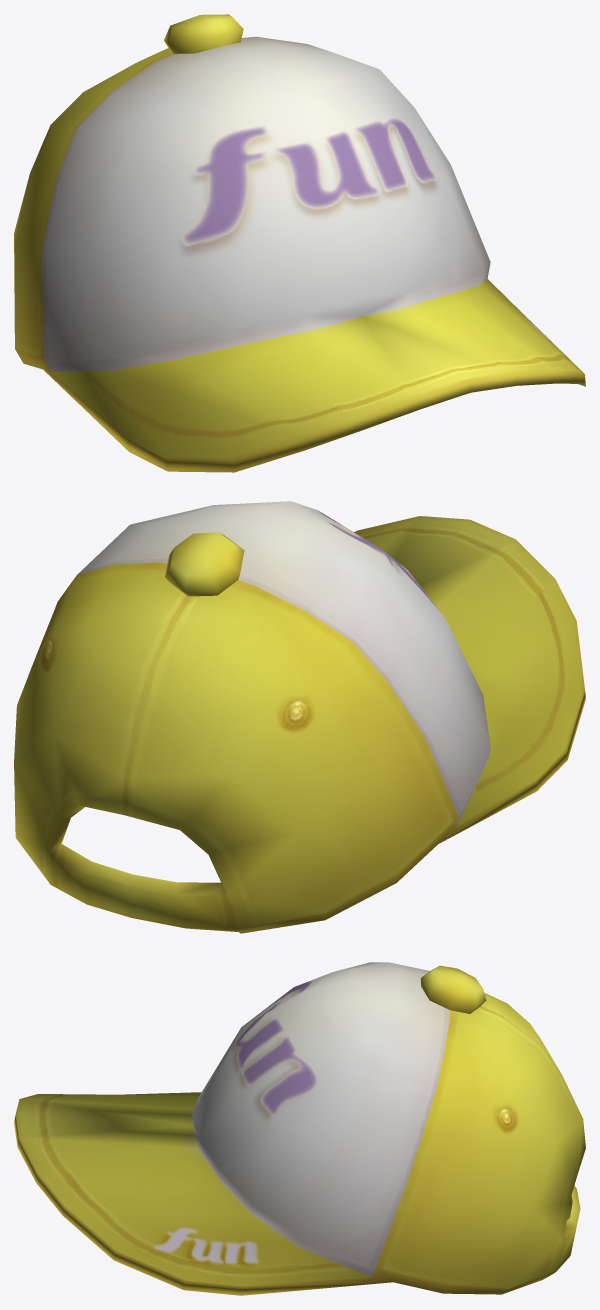
File: Z004_0100_Skin.FBX
The picture shows the model from 3 angles, top to bottom: view 1: azimuth 30°, elevation 25°; view 2: azimuth 150°, elevation 25°; view 3: azimuth 270°, elevation 25°; orthographic projection. The views are drawn at different scales.
Parts seen in each view (by area): view 1: Z004_0100; view 2: Z004_0100; view 3: Z004_0100.
Boxes of the visible parts, left/top/right/bottom form: Z004_0100: left=14, top=14, right=585, bottom=472; Z004_0100: left=14, top=501, right=585, bottom=933; Z004_0100: left=14, top=962, right=585, bottom=1295.
Size of the model in its own units: 28.44 by 21.71 by 41.28.
